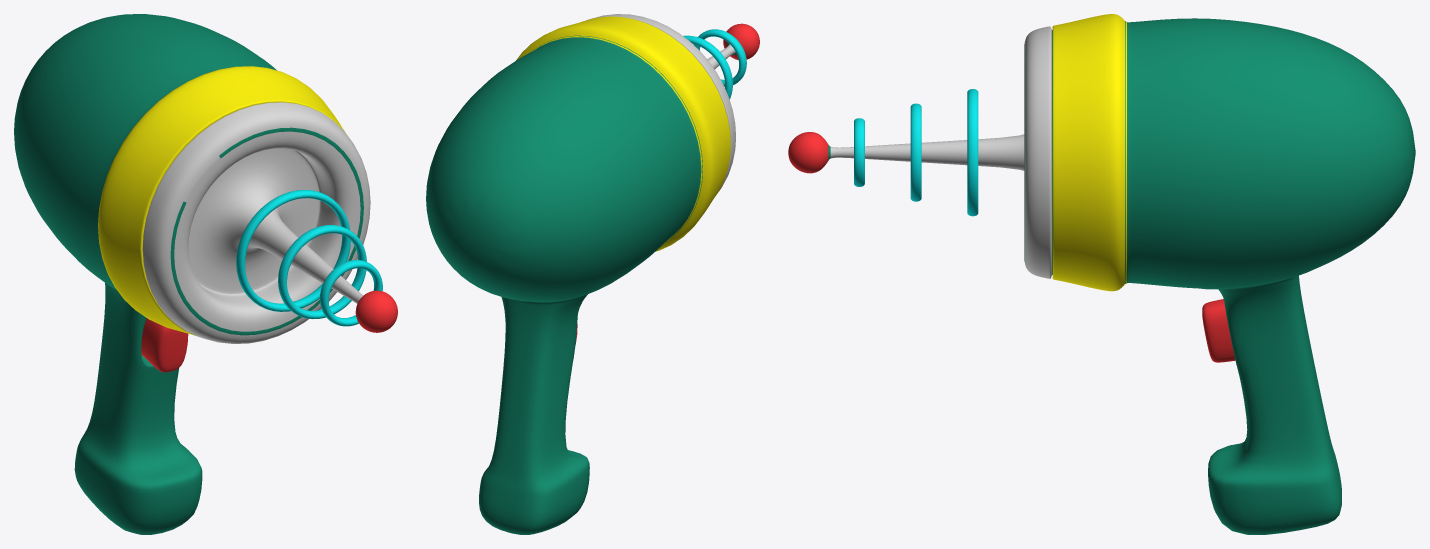
Rendered from GreenLaserGun.fbx.
The picture shows the model from 3 angles, left to right: view 1: azimuth 30°, elevation 25°; view 2: azimuth 150°, elevation 25°; view 3: azimuth 270°, elevation 25°; orthographic projection. The views are drawn at different scales.
Visible parts, largest first — view 1: GreenGun_LOD0; view 2: GreenGun_LOD0; view 3: GreenGun_LOD0.
Boxes of the visible parts, left/top/right/bottom form: GreenGun_LOD0: left=14, top=14, right=397, bottom=534; GreenGun_LOD0: left=426, top=14, right=759, bottom=534; GreenGun_LOD0: left=788, top=14, right=1415, bottom=534.
Size of what is drawn, in the model's own units: 24.73 by 49.29 by 55.92.
